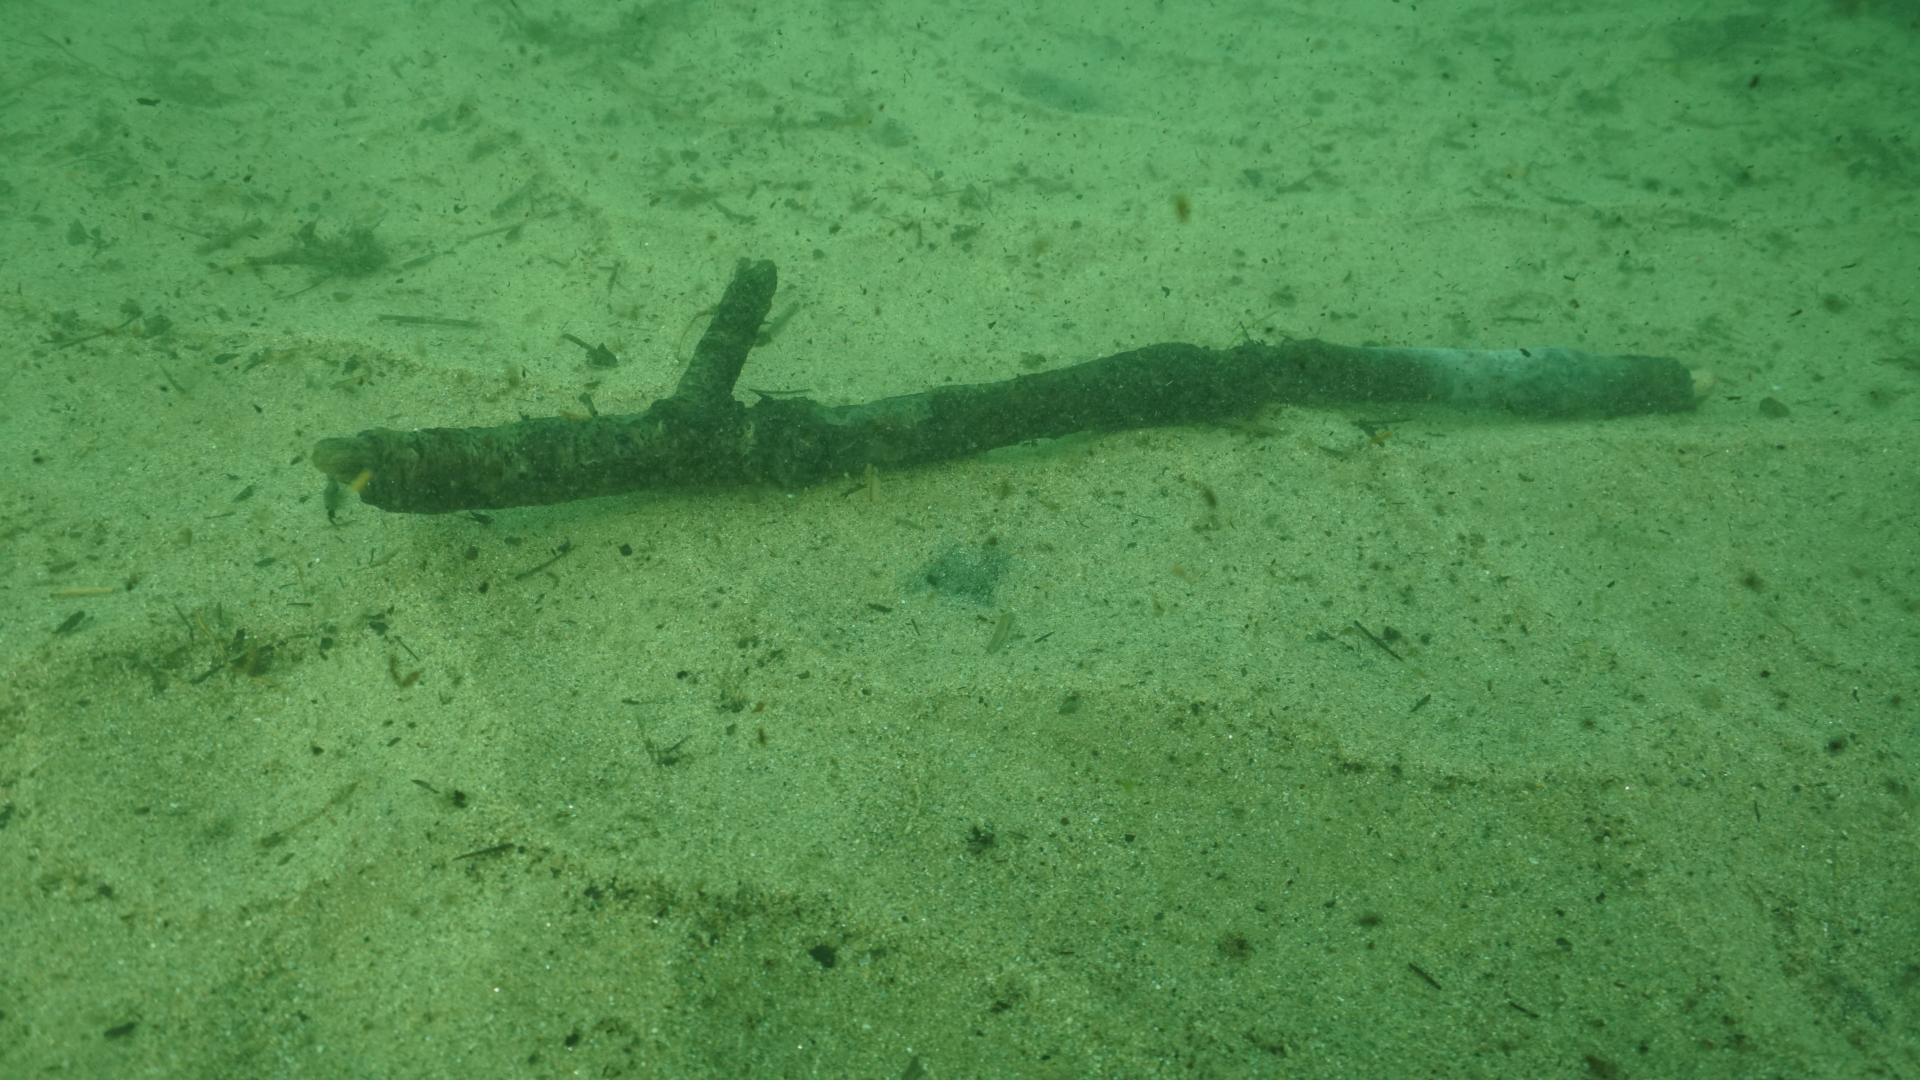wood: (309, 256, 1710, 512)
